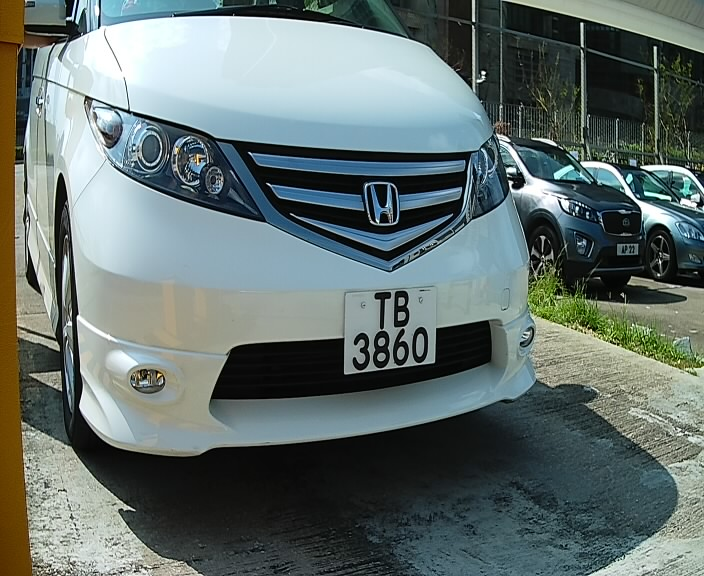License Plate: (339, 280, 448, 386)
